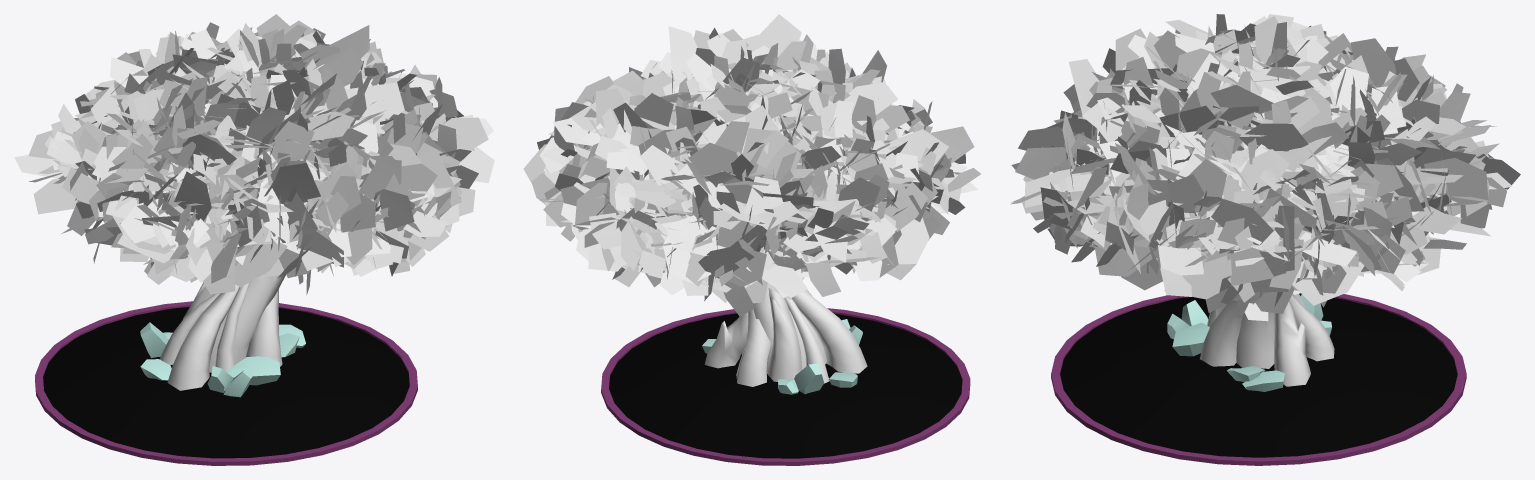
File: BIG_TREE.fbx
3 views of the same model, side by side, from view 1: azimuth 30°, elevation 25°; view 2: azimuth 150°, elevation 25°; view 3: azimuth 270°, elevation 25° (orthographic). The views are drawn at different scales.
Parts seen in each view (by area): view 1: P_TREE_BRANCH_01, E_SC_HUGE_TREE_BASE, E_SC_HUGE_TREE, P_TREE_BRANCH_00; view 2: P_TREE_BRANCH_01, E_SC_HUGE_TREE_BASE, E_SC_HUGE_TREE, P_TREE_BRANCH_00; view 3: P_TREE_BRANCH_01, E_SC_HUGE_TREE_BASE, E_SC_HUGE_TREE, P_TREE_BRANCH_00.
Boxes of the visible parts, x1,y1,x2,y2 form: P_TREE_BRANCH_01: (14, 14, 494, 294); E_SC_HUGE_TREE_BASE: (35, 301, 417, 465); E_SC_HUGE_TREE: (159, 274, 285, 390); P_TREE_BRANCH_00: (76, 86, 323, 279); P_TREE_BRANCH_01: (523, 14, 980, 316); E_SC_HUGE_TREE_BASE: (601, 308, 970, 465); E_SC_HUGE_TREE: (704, 287, 867, 386); P_TREE_BRANCH_00: (615, 123, 904, 273); P_TREE_BRANCH_01: (1010, 14, 1520, 321); E_SC_HUGE_TREE_BASE: (1051, 293, 1466, 465); E_SC_HUGE_TREE: (1200, 294, 1334, 386); P_TREE_BRANCH_00: (1108, 84, 1446, 304).
Bounding box in the file's own units: 2613 × 2082 × 2584.
